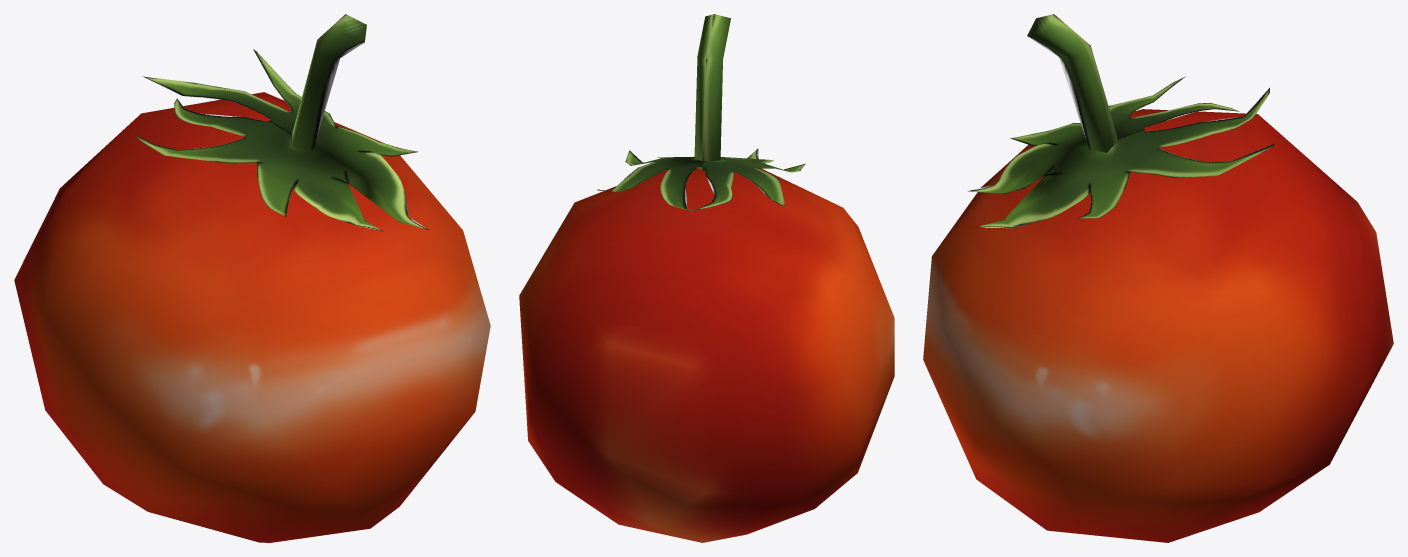
The model's file is Tomato 1.fbx.
3 views of the same model, side by side, from view 1: azimuth 30°, elevation 25°; view 2: azimuth 150°, elevation 25°; view 3: azimuth 270°, elevation 25° (orthographic). The views are drawn at different scales.
Parts seen in each view (by area): view 1: Tomato_Plant.002; view 2: Tomato_Plant.002; view 3: Tomato_Plant.002.
Boxes of the visible parts, x1,y1,x2,y2 form: Tomato_Plant.002: (14, 14, 490, 542); Tomato_Plant.002: (519, 14, 894, 542); Tomato_Plant.002: (923, 14, 1393, 542).
Size of the model in its own units: 167 by 225 by 183.
